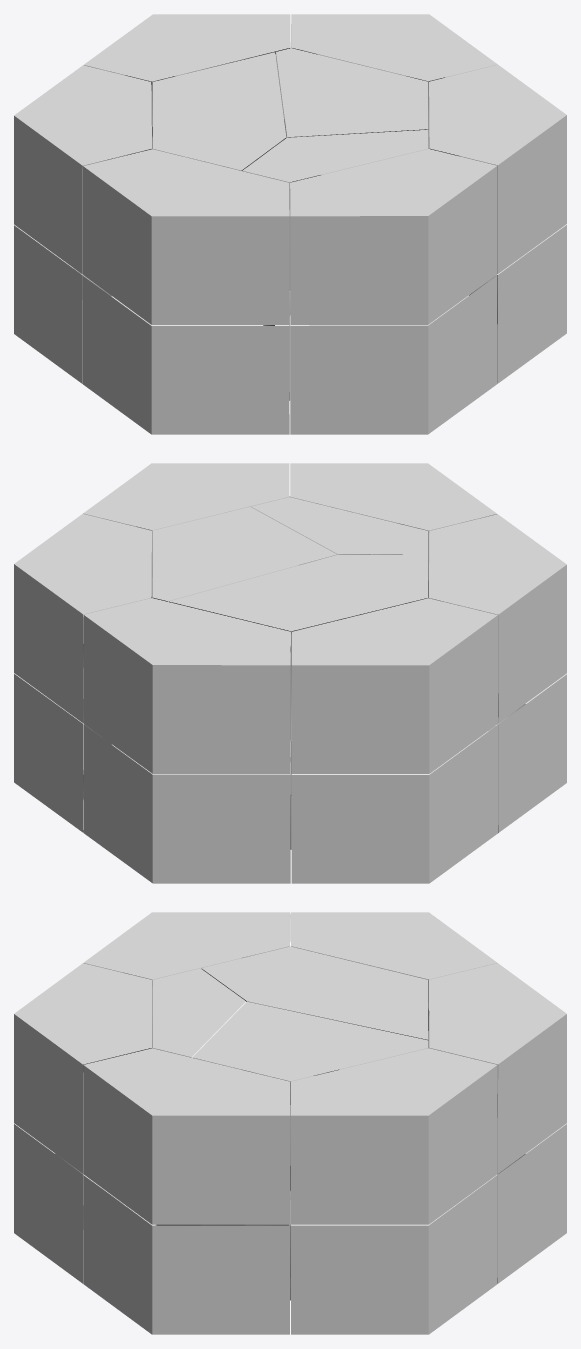
File: Dest_Hex_20.fbx
3 renders of one model, top to bottom at view 1: azimuth 30°, elevation 25°; view 2: azimuth 150°, elevation 25°; view 3: azimuth 270°, elevation 25°, orthographic.
Parts seen in each view (by area): view 1: Hex1.001_cell.007, Hex1.001_cell.009, Hex1.001_cell.006, Hex1.001_cell.008, Hex1.001_cell.005, Hex1.001_cell.011, Hex1.001_cell.012_cell.001, Hex1.001_cell.012_cell.002, Hex1.001_cell.001, Hex1.001_cell.003, Hex1.001_cell.004, Hex1.001_cell.010 (+1 smaller); view 2: Hex1.001_cell.001, Hex1.001_cell.011, Hex1.001_cell, Hex1.001_cell.010, Hex1.001_cell.003, Hex1.001_cell.009, Hex1.001_cell.012_cell.001, Hex1.001_cell.012_cell.002, Hex1.001_cell.007, Hex1.001_cell.005, Hex1.001_cell.002, Hex1.001_cell.008 (+1 smaller); view 3: Hex1.001_cell.005, Hex1.001_cell.003, Hex1.001_cell.002, Hex1.001_cell.004, Hex1.001_cell.001, Hex1.001_cell.007, Hex1.001_cell.012_cell.001, Hex1.001_cell.012_cell.002, Hex1.001_cell.011, Hex1.001_cell.009, Hex1.001_cell.006, Hex1.001_cell (+1 smaller).
Boxes of the visible parts, <box> form: Hex1.001_cell.007: <box>290,149,497,324</box>; Hex1.001_cell.009: <box>83,149,289,324</box>; Hex1.001_cell.006: <box>290,275,497,434</box>; Hex1.001_cell.008: <box>83,275,289,434</box>; Hex1.001_cell.005: <box>429,65,566,273</box>; Hex1.001_cell.011: <box>14,65,151,274</box>; Hex1.001_cell.012_cell.001: <box>152,52,286,170</box>; Hex1.001_cell.012_cell.002: <box>276,48,428,137</box>; Hex1.001_cell.001: <box>84,14,290,149</box>; Hex1.001_cell.003: <box>291,14,497,148</box>; Hex1.001_cell.004: <box>497,224,566,383</box>; Hex1.001_cell.010: <box>14,225,83,383</box>; Hex1.001_cell.001: <box>83,598,290,773</box>; Hex1.001_cell.011: <box>291,598,497,773</box>; Hex1.001_cell: <box>83,724,290,883</box>; Hex1.001_cell.010: <box>291,724,497,883</box>; Hex1.001_cell.003: <box>14,514,151,723</box>; Hex1.001_cell.009: <box>429,514,566,723</box>; Hex1.001_cell.012_cell.001: <box>168,554,428,739</box>; Hex1.001_cell.012_cell.002: <box>152,507,336,601</box>; Hex1.001_cell.007: <box>290,463,496,598</box>; Hex1.001_cell.005: <box>83,463,289,597</box>; Hex1.001_cell.002: <box>14,673,83,832</box>; Hex1.001_cell.008: <box>497,674,566,832</box>; Hex1.001_cell.005: <box>83,1048,290,1224</box>; Hex1.001_cell.003: <box>291,1048,497,1224</box>; Hex1.001_cell.002: <box>290,1174,497,1334</box>; Hex1.001_cell.004: <box>83,1175,289,1334</box>; Hex1.001_cell.001: <box>429,963,566,1173</box>; Hex1.001_cell.007: <box>14,963,151,1173</box>; Hex1.001_cell.012_cell.001: <box>201,946,428,1040</box>; Hex1.001_cell.012_cell.002: <box>192,1001,428,1190</box>; Hex1.001_cell.011: <box>290,912,497,1048</box>; Hex1.001_cell.009: <box>83,912,289,1048</box>; Hex1.001_cell.006: <box>14,1123,83,1283</box>; Hex1.001_cell: <box>497,1123,566,1283</box>.
Size of the model in its own units: 1 by 0.5049 by 1.15.
